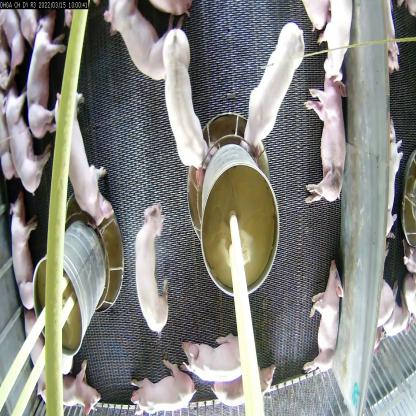Pig: (244, 23, 306, 158), (53, 83, 111, 220), (312, 43, 358, 205), (93, 0, 168, 87), (132, 203, 175, 335), (157, 33, 202, 154), (26, 13, 66, 149), (312, 254, 346, 390), (28, 340, 95, 407), (2, 95, 42, 199), (123, 365, 201, 415), (2, 200, 37, 309), (184, 333, 250, 389), (212, 365, 258, 381)
